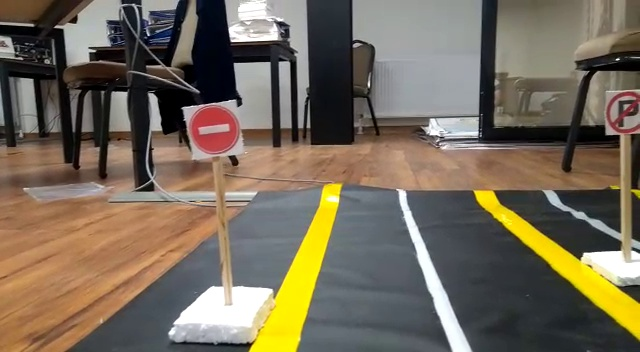girisi_olmayan_yol: (184, 102, 244, 156)
park_yapilmaz: (601, 85, 640, 133)
